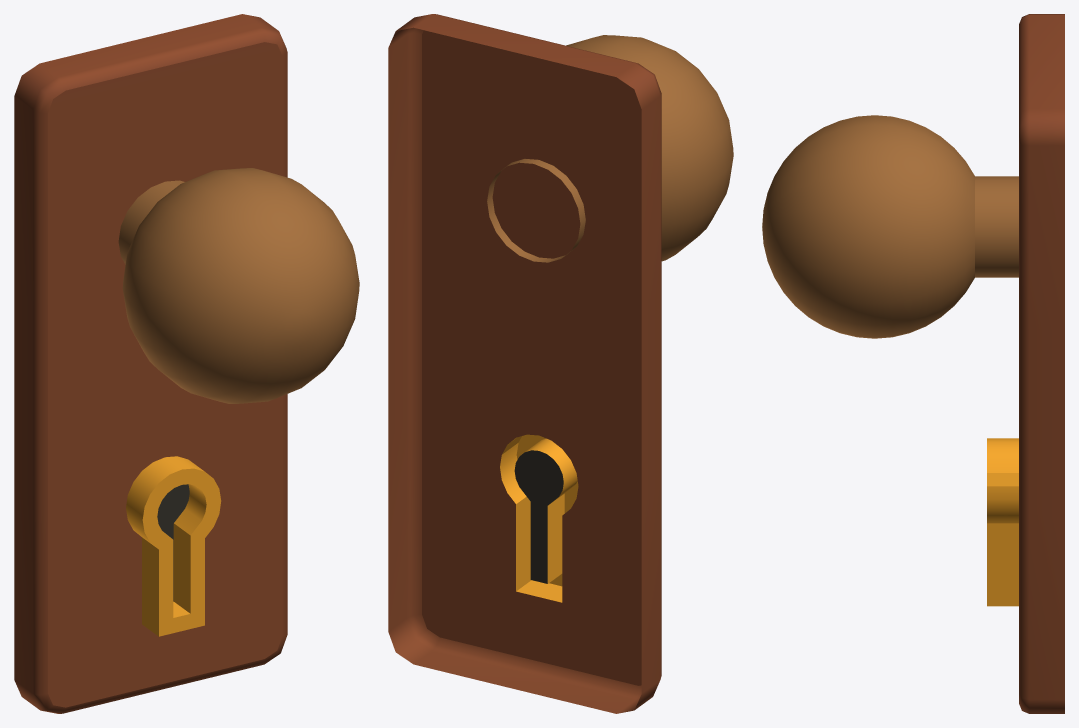
File: Doorlock.fbx
3 views of the same model, side by side, from view 1: azimuth 30°, elevation 25°; view 2: azimuth 150°, elevation 25°; view 3: azimuth 270°, elevation 25° (orthographic). The views are drawn at different scales.
Visible parts, largest first — view 1: FORK:FORK:FORK:FORK:Doorlock; view 2: FORK:FORK:FORK:FORK:Doorlock; view 3: FORK:FORK:FORK:FORK:Doorlock.
Boxes of the visible parts, box(x1,y1,x2,y2) form: FORK:FORK:FORK:FORK:Doorlock: box(14, 14, 359, 713); FORK:FORK:FORK:FORK:Doorlock: box(388, 14, 733, 713); FORK:FORK:FORK:FORK:Doorlock: box(762, 14, 1064, 713).
Bounding box in the file's own units: 34.95 × 83.89 × 38.09.
